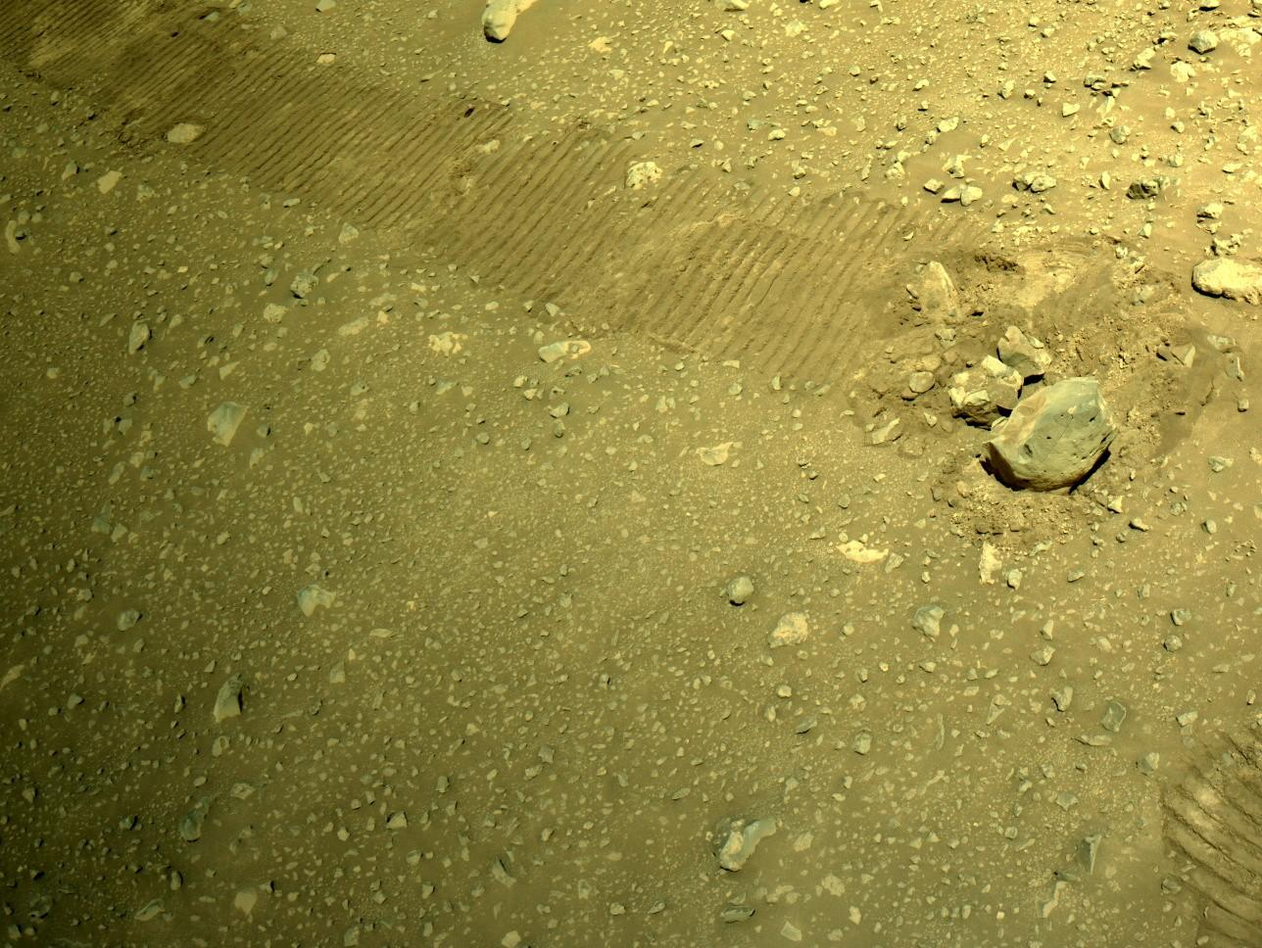soil: (2, 2, 1259, 945)
